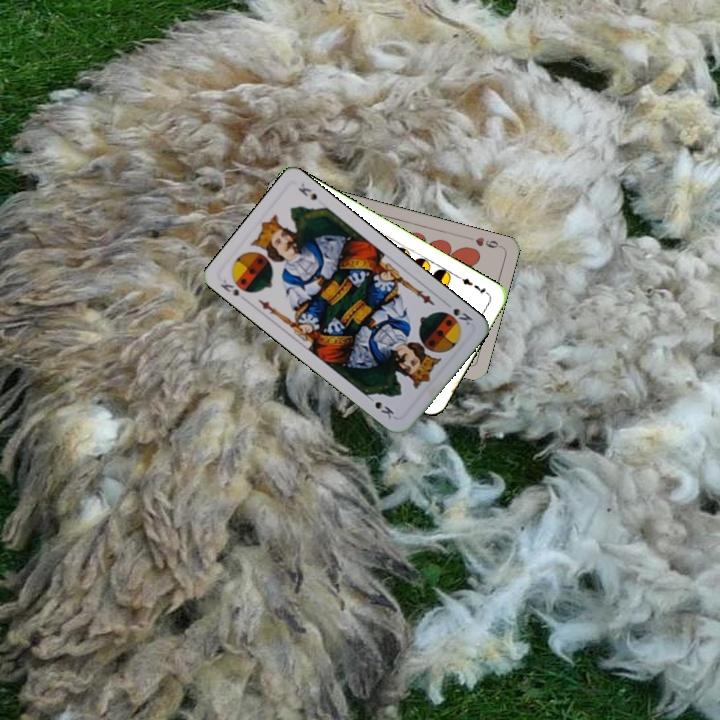E7: (454, 272, 491, 298)
H9: (464, 233, 504, 251)
SK: (216, 274, 253, 303), (449, 304, 475, 328)
